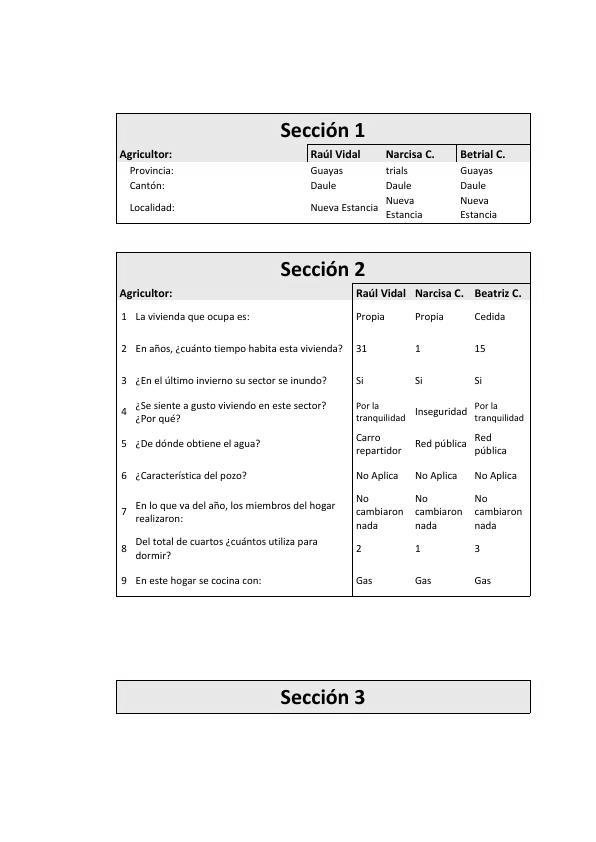table: (111, 246, 537, 603), (111, 108, 536, 230), (114, 674, 537, 720)
